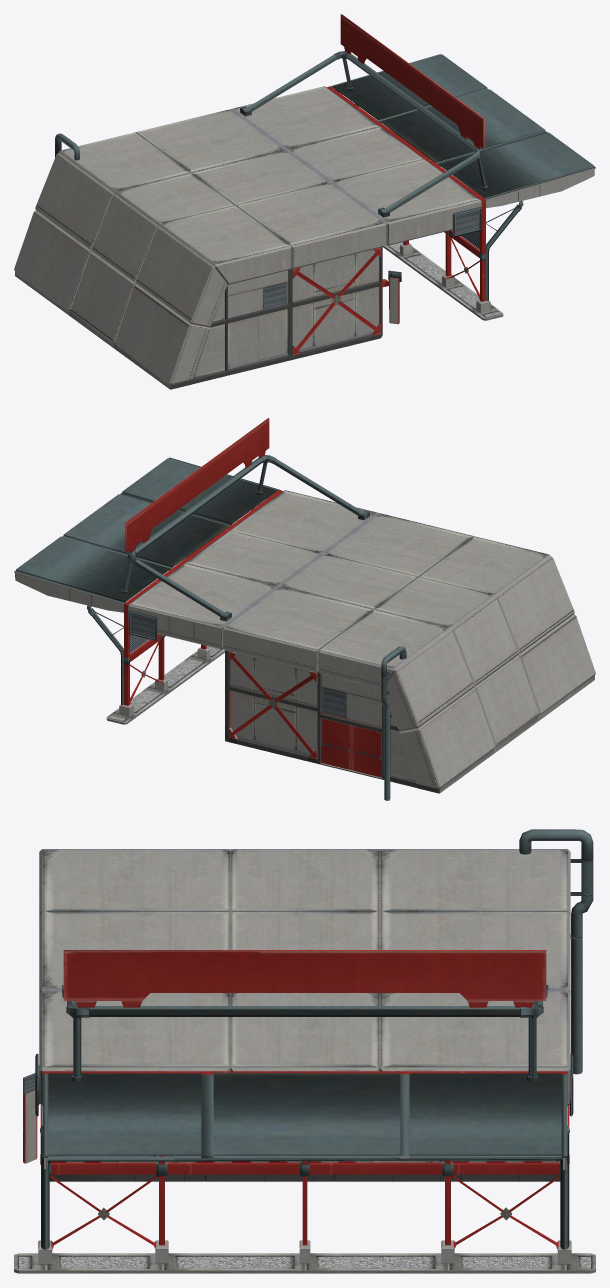
File: GasStation.fbx
3 views of the same model, one above another, from view 1: azimuth 30°, elevation 25°; view 2: azimuth 150°, elevation 25°; view 3: azimuth 270°, elevation 25° (orthographic). The views are drawn at different scales.
Parts seen in each view (by area): view 1: Model_Gas_Station; view 2: Model_Gas_Station; view 3: Model_Gas_Station.
Boxes of the visible parts, x1,y1,x2,y2 form: Model_Gas_Station: [14, 14, 595, 389]; Model_Gas_Station: [14, 418, 595, 800]; Model_Gas_Station: [14, 829, 595, 1273].
Bounding box in the file's own units: 2662 × 1216 × 1861.
